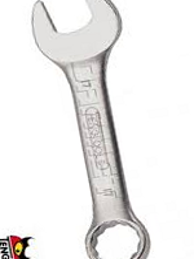Wrench: (28, 1, 156, 259)
